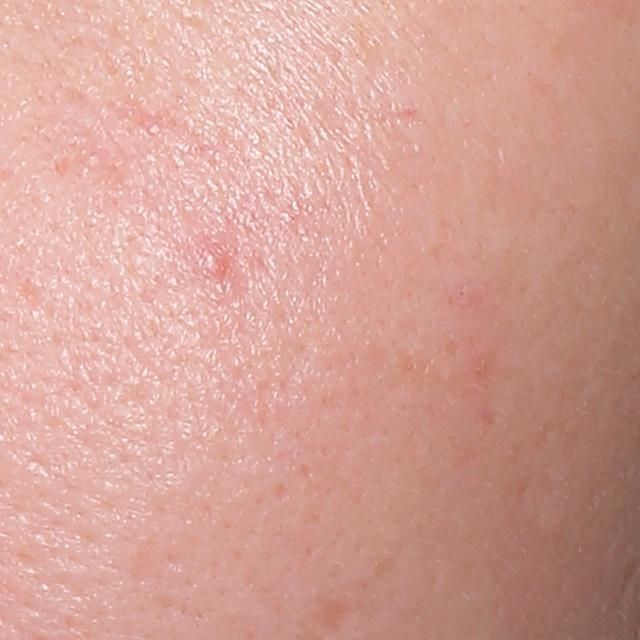atrophic_scar: (315, 589, 367, 639)
papule: (197, 246, 229, 283)
